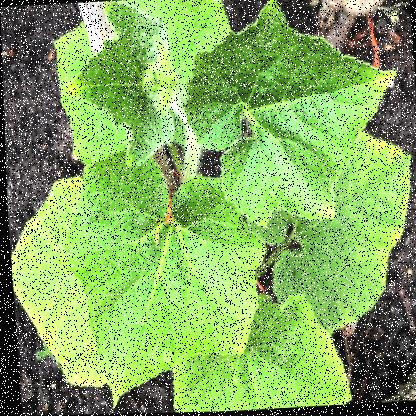Normal: (47, 145, 275, 408), (182, 0, 408, 225), (95, 244, 229, 340), (263, 71, 351, 147)
